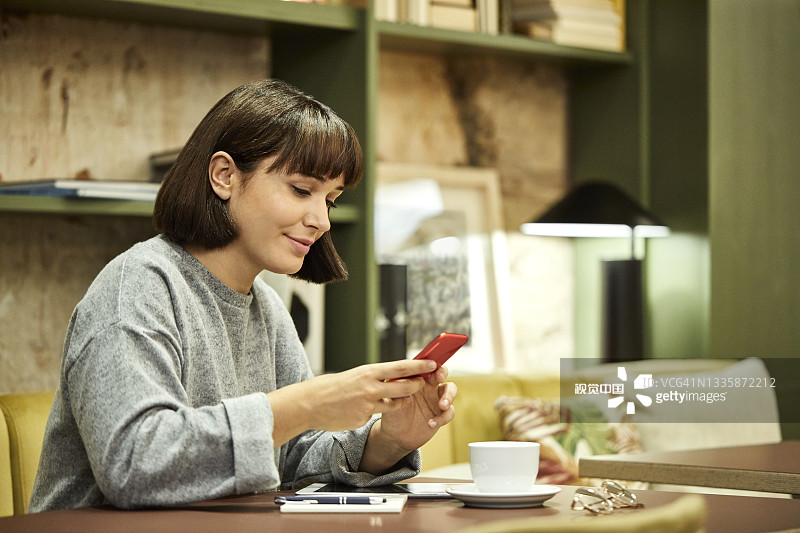reading: (280, 322, 477, 460)
